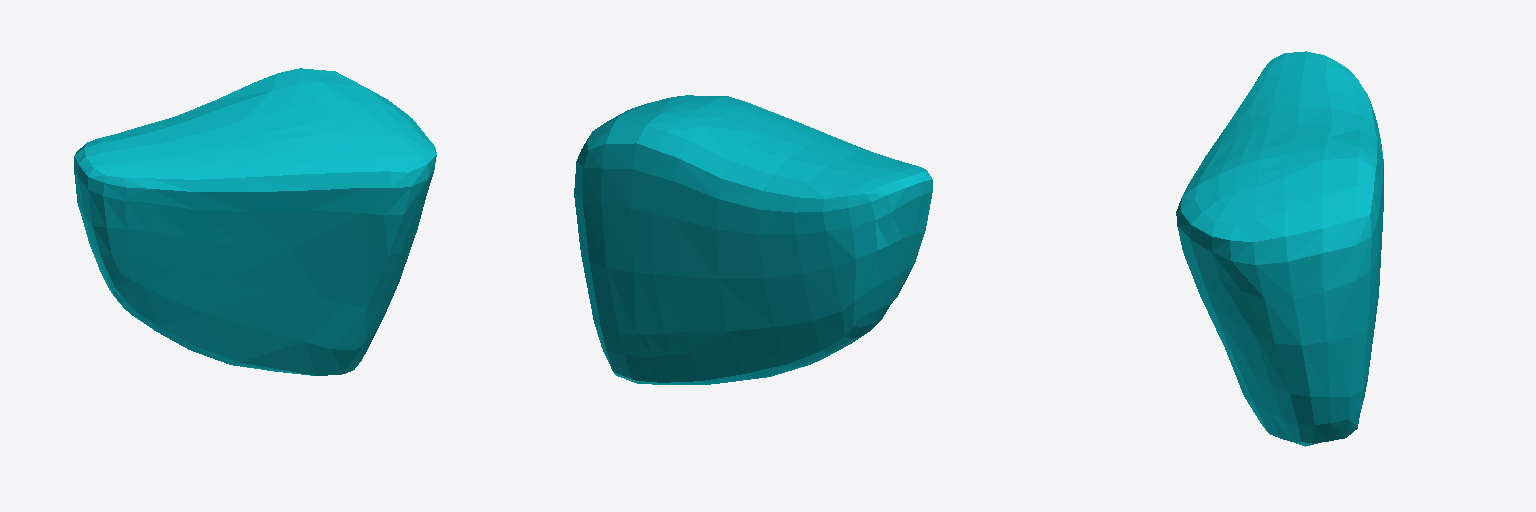
Rendered from R_Toe.obj.
3 views of the same model, side by side, from view 1: azimuth 30°, elevation 25°; view 2: azimuth 150°, elevation 25°; view 3: azimuth 270°, elevation 25° (orthographic).
Visible parts, largest first — view 1: R_Toe_Alpha_Surface.002; view 2: R_Toe_Alpha_Surface.002; view 3: R_Toe_Alpha_Surface.002.
Boxes of the visible parts, box(x1,y1,x2,y2) form: R_Toe_Alpha_Surface.002: box(74, 68, 436, 375); R_Toe_Alpha_Surface.002: box(574, 95, 932, 384); R_Toe_Alpha_Surface.002: box(1176, 51, 1383, 446).
Size of the model in its own units: 0.1065 by 0.085 by 0.0576.